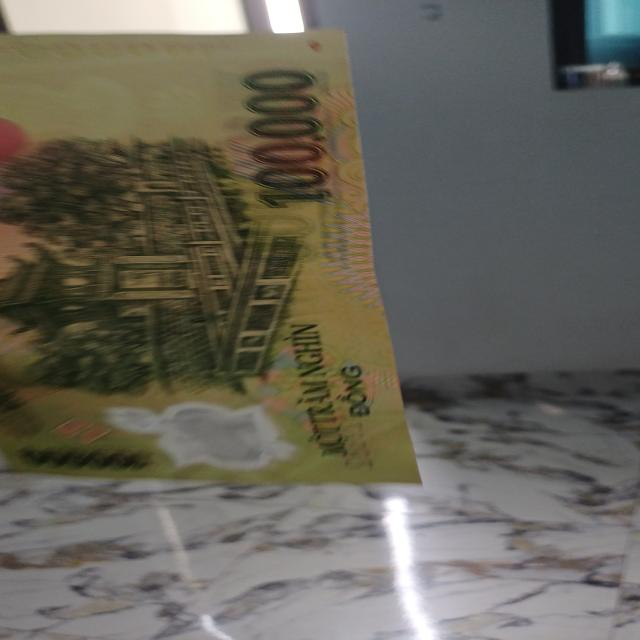100 000 VND: (1, 32, 436, 490)
